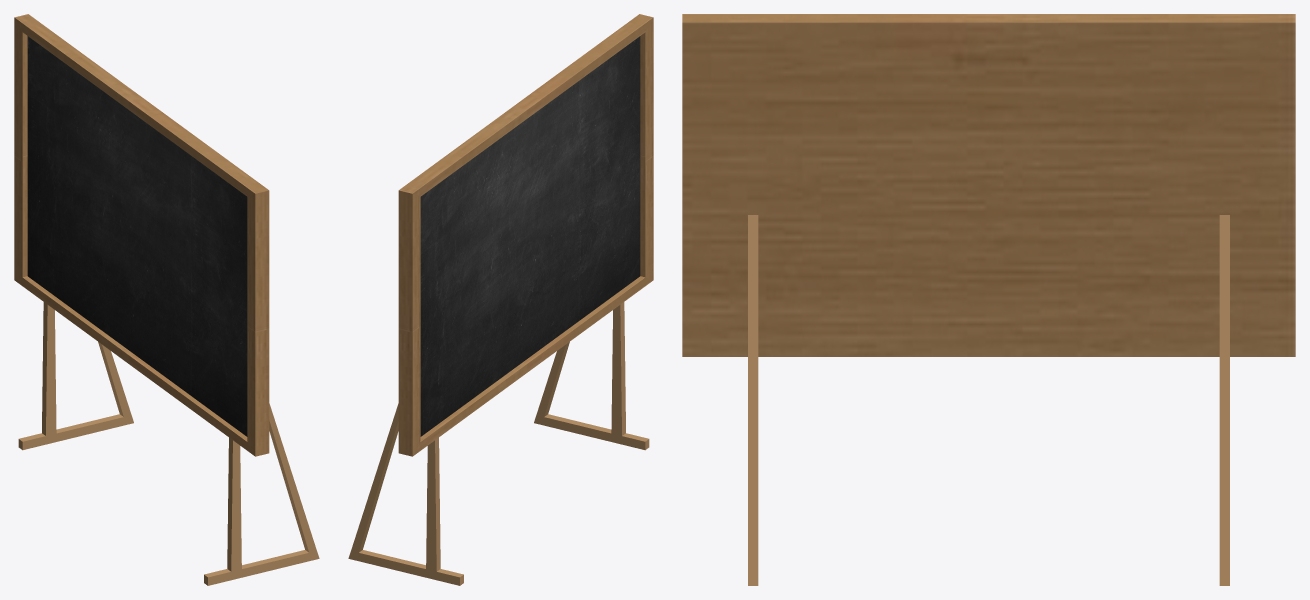
Rendered from chalkboard.glb.
3 renders of one model, left to right at view 1: azimuth 30°, elevation 25°; view 2: azimuth 150°, elevation 25°; view 3: azimuth 270°, elevation 25°, orthographic. The views are drawn at different scales.
Visible parts, largest first — view 1: Cube; view 2: Cube; view 3: Cube.
Boxes of the visible parts, bbox=[...] form: Cube: bbox=[14, 14, 319, 585]; Cube: bbox=[348, 14, 653, 585]; Cube: bbox=[682, 14, 1295, 585].
Bounding box in the file's own units: 0.7186 × 2.5 × 2.69.
Materials: 2 (2 with a texture image).
